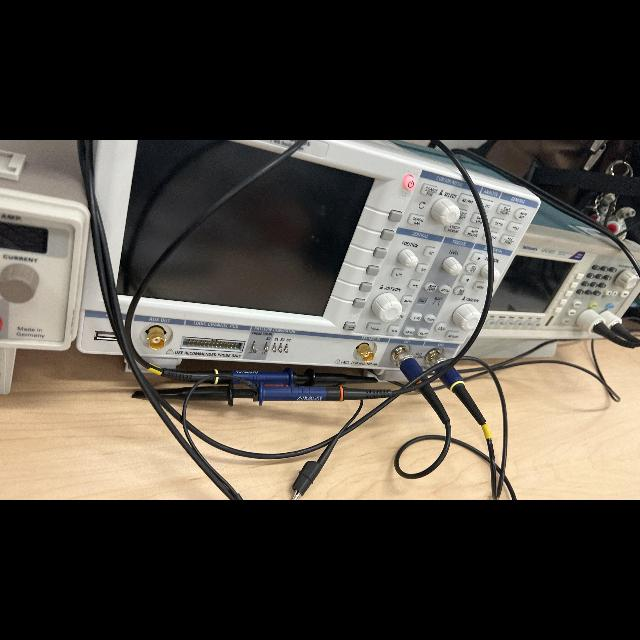Digital-Oscilloscope: (132, 140, 487, 374), (95, 140, 291, 312), (470, 172, 540, 287)
